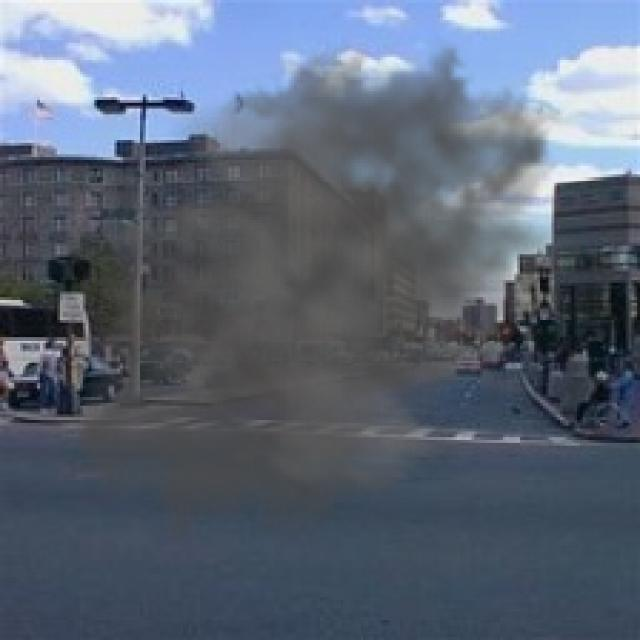Smoke: (34, 9, 592, 578)
